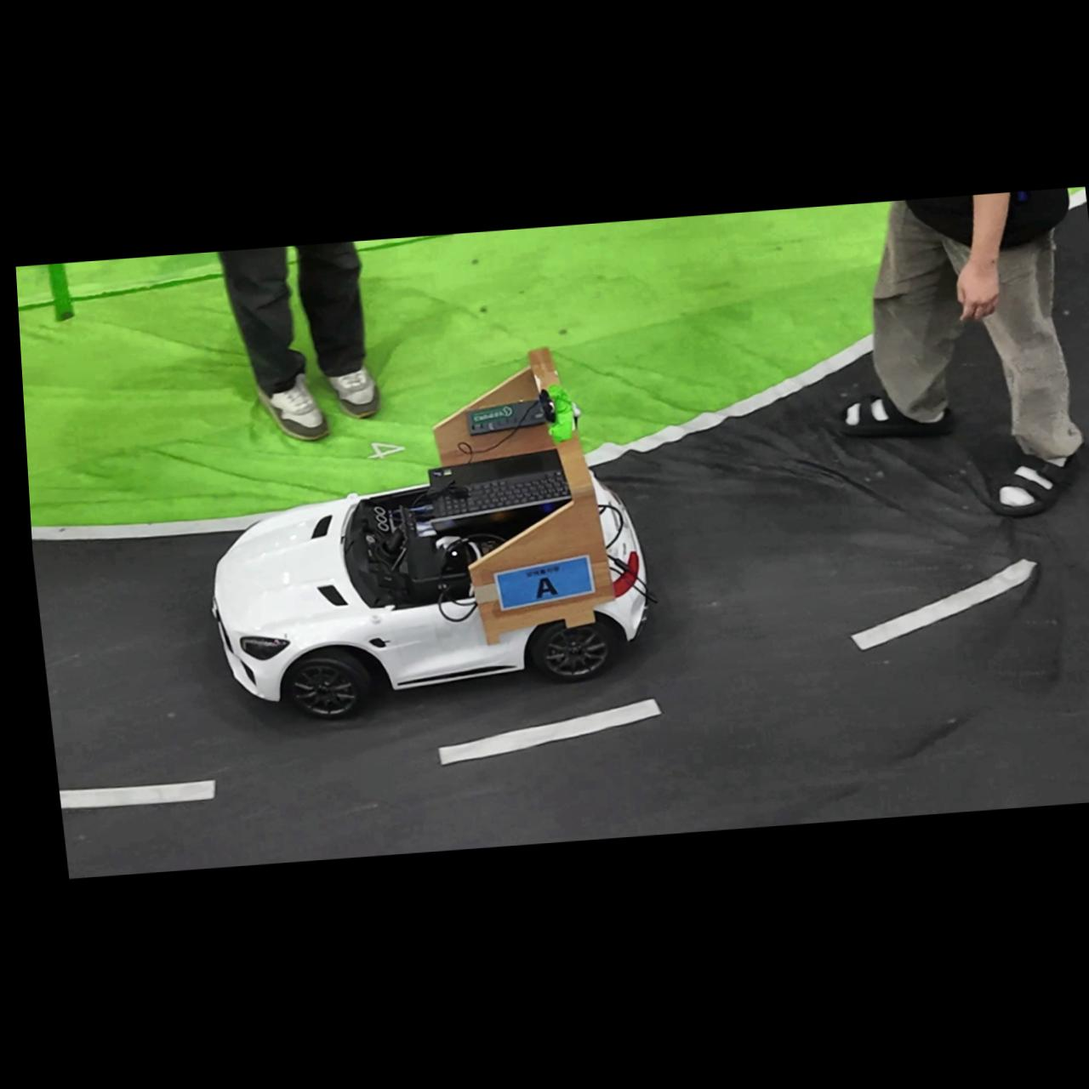broken_line: (850, 558, 1037, 650), (438, 698, 661, 764), (59, 779, 215, 808)
